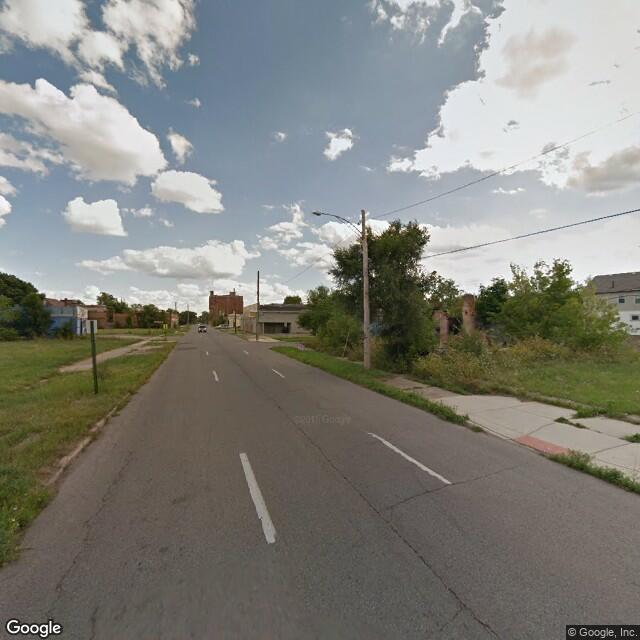litter: (11, 517, 22, 524), (13, 502, 22, 510)
